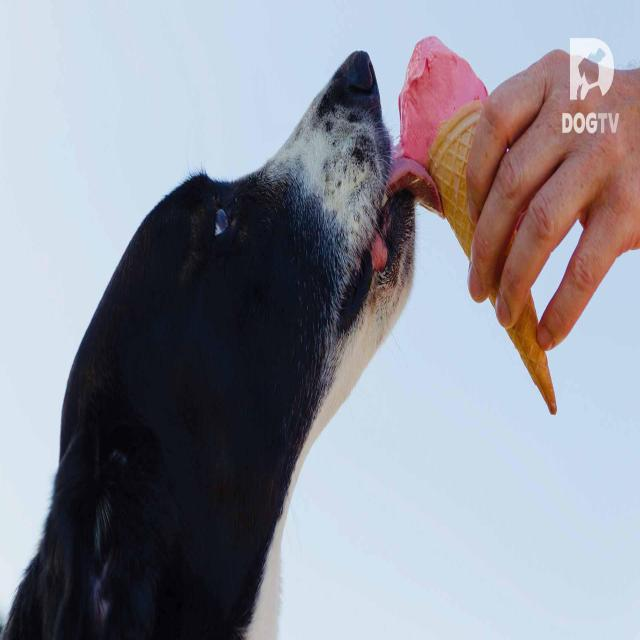Dog: (58, 36, 446, 578)
